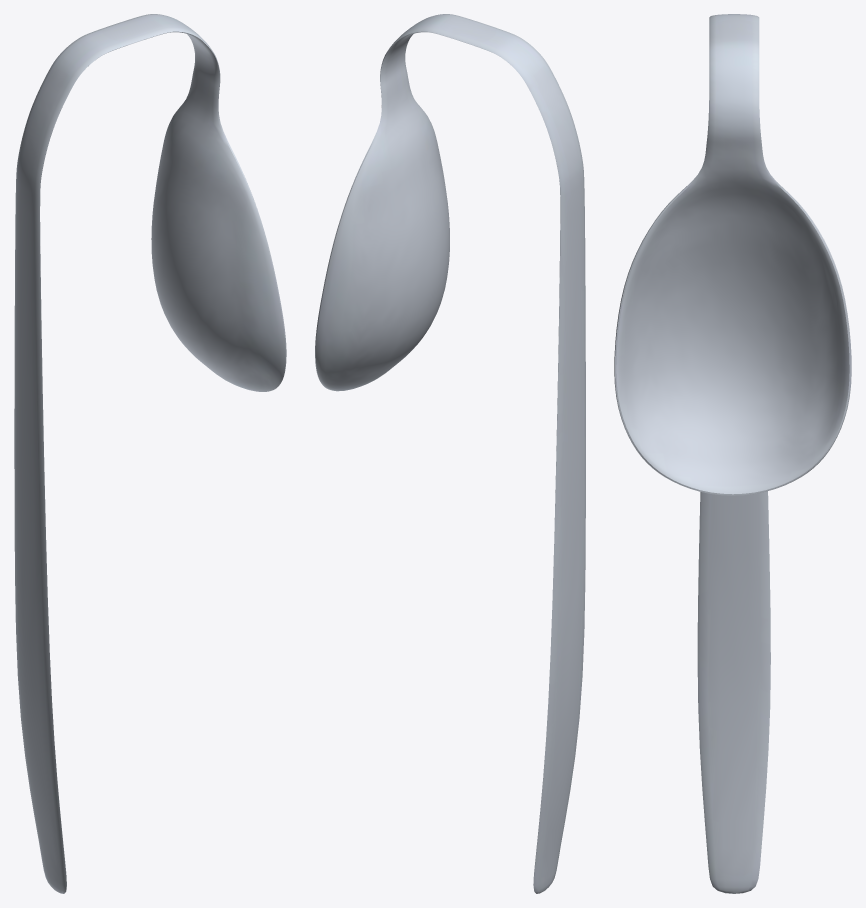
The model's file is metal_spoon_opt-transformed.glb.
3 views of the same model, side by side, from view 1: azimuth 30°, elevation 25°; view 2: azimuth 150°, elevation 25°; view 3: azimuth 270°, elevation 25° (orthographic). The views are drawn at different scales.
Parts seen in each view (by area): view 1: SpoonMatrix_high_SpoonMatrix_high_0; view 2: SpoonMatrix_high_SpoonMatrix_high_0; view 3: SpoonMatrix_high_SpoonMatrix_high_0.
Part boxes in pixels (x1,y1,x2,y2): SpoonMatrix_high_SpoonMatrix_high_0: (14, 14, 286, 893); SpoonMatrix_high_SpoonMatrix_high_0: (315, 14, 585, 893); SpoonMatrix_high_SpoonMatrix_high_0: (614, 14, 851, 893).
Bounding box in the file's own units: 0.05 × 0.1846 × 0.0439.
Materials: 1 (1 with a texture image).
